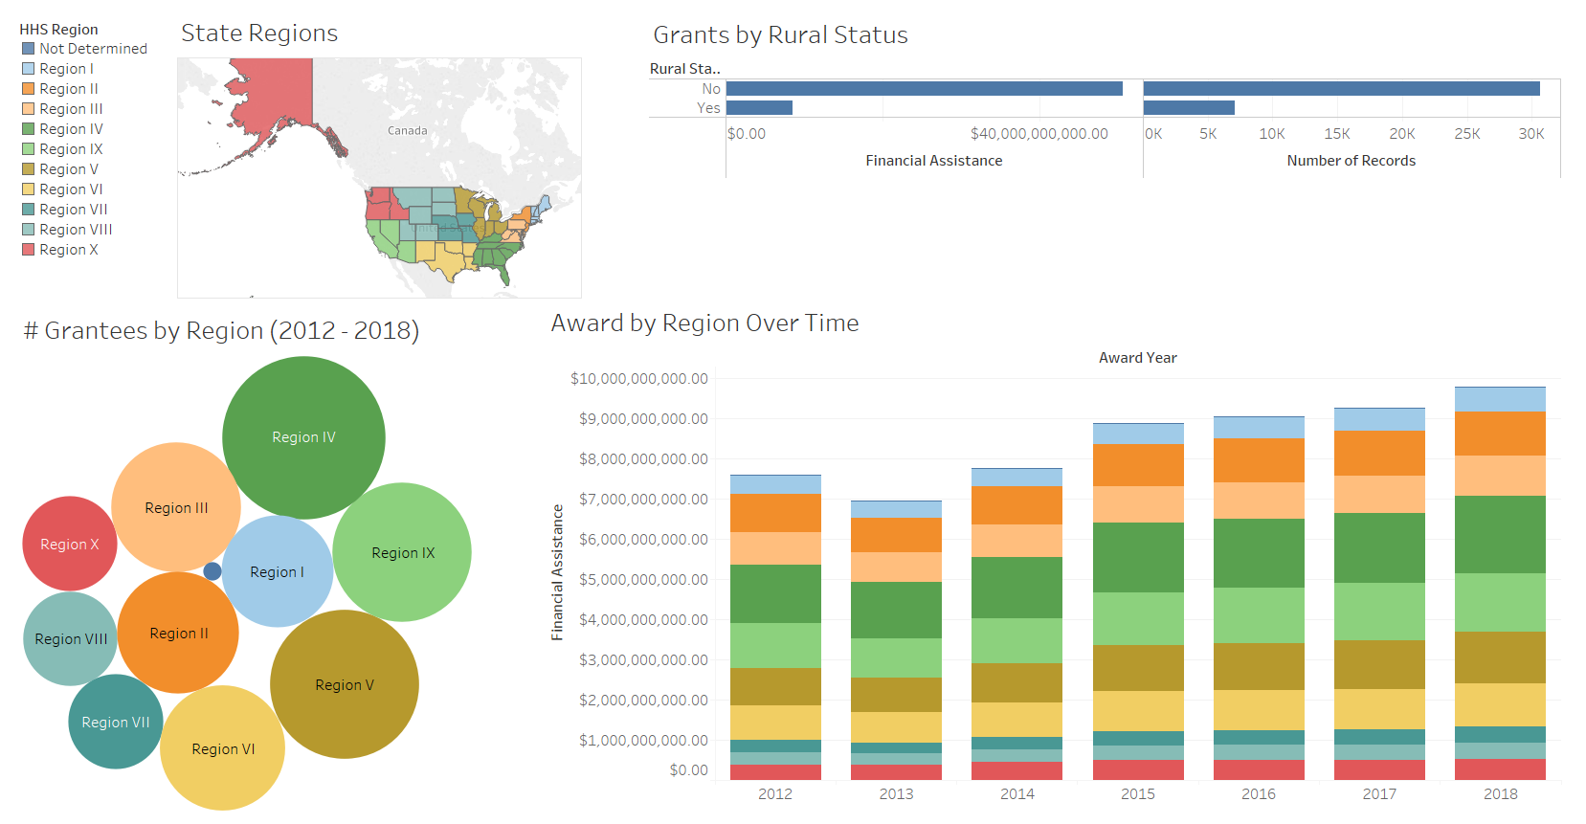

What the dashboard file says about the page in this screenshot:
{"tool":"tableau","page":{"name":"Trends by Region","canvas":[1000,1000],"units":"permille","ordinal":3},"visuals":[{"type":"worksheet","title":"State Regions","mark":"Multipolygon","box":[111.7,11.6,255.3,350.8]},{"type":"worksheet","title":"Grants by Rural Status","mark":"Automatic","rows":["Rural Status"],"cols":["Financial Assistance","Number of Records"],"box":[409.2,13.9,575.7,310.1]},{"type":"legend","title":"State Regions","param":"[federated.1ukabbe00wwjyq1djjiwl0kc8hmf].[none:HHS Region:nk]","box":[11.5,20.9,84.5,335.7]},{"type":"worksheet","title":"Award by Region Over Time","mark":"Automatic","rows":["Financial Assistance"],"cols":["Award Year"],"box":[344.6,363.5,639.7,612.1]},{"type":"worksheet","title":"# Grantees by Region","mark":"Circle","box":[12.1,372.8,322.9,610.9]}]}

Visuals, with their boxes on the dashboard's canvas, which has no fixed pixel size, in thousandths of its width and height (x1, y1, x2, y2). These are canvas units, not pixel positions in the 1586x824 screenshot, which may show the page scaled, cropped or inside an application window:
"State Regions" worksheet (Multipolygon marks): (x1=112, y1=12, x2=367, y2=362)
"Grants by Rural Status" worksheet: (x1=409, y1=14, x2=985, y2=324)
"State Regions" legend: (x1=12, y1=21, x2=96, y2=357)
"Award by Region Over Time" worksheet: (x1=345, y1=364, x2=984, y2=976)
"# Grantees by Region" worksheet (Circle marks): (x1=12, y1=373, x2=335, y2=984)
